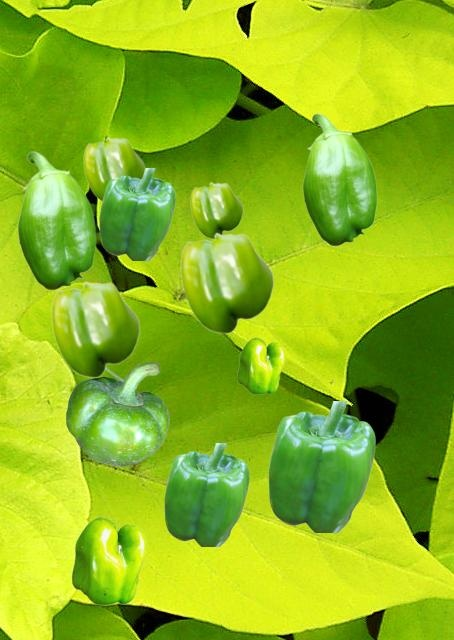bell_pepper: (268, 401, 374, 531), (17, 151, 95, 289), (66, 361, 168, 465), (302, 113, 376, 245), (180, 232, 273, 333), (164, 443, 248, 545), (51, 281, 139, 377), (99, 168, 174, 259), (71, 516, 146, 604), (83, 137, 144, 201), (190, 182, 242, 238), (237, 337, 284, 393)
